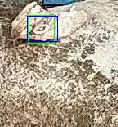text: (28, 15, 54, 43)
